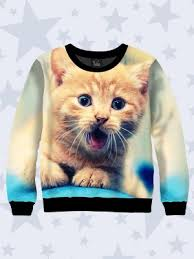cat: (47, 46, 157, 160)
